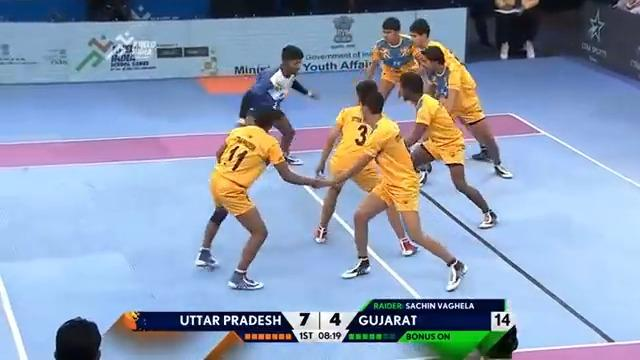Player: (194, 99, 341, 290), (331, 90, 468, 291), (312, 79, 420, 256), (395, 71, 498, 229), (416, 44, 513, 179), (365, 16, 423, 110)
Raider: (236, 44, 317, 165)
